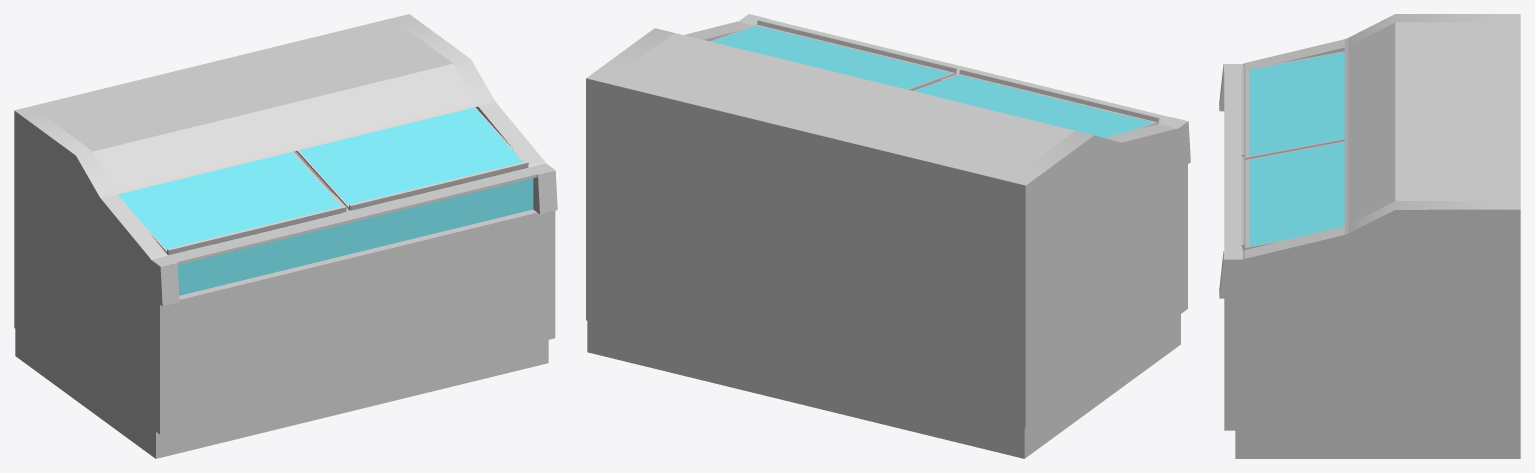
File: ICecreamBox.fbx
The picture shows the model from 3 angles, left to right: view 1: azimuth 30°, elevation 25°; view 2: azimuth 150°, elevation 25°; view 3: azimuth 270°, elevation 25°; orthographic projection. The views are drawn at different scales.
Parts seen in each view (by area): view 1: Box001, Box004, Box006, Box002, Box005, Box007; view 2: Box001, Box004, Box006, Box005, Box007; view 3: Box001, Box006, Box004, Box007, Box005.
Part boxes in pixels (x1,y1,x2,y2): Box001: (14,14,557,458); Box004: (299,107,522,204); Box006: (118,152,340,249); Box002: (177,178,533,295); Box005: (296,107,528,210); Box007: (131,151,346,255); Box001: (586,14,1190,458); Box004: (711,26,950,89); Box006: (914,75,1152,137); Box005: (710,20,957,90); Box007: (912,69,1159,130); Box001: (1219,14,1520,458); Box006: (1249,52,1344,156); Box004: (1249,142,1344,246); Box007: (1241,51,1344,159); Box005: (1241,141,1344,250).
Bounding box in the file's own units: 79.14 × 47.07 × 51.48.
